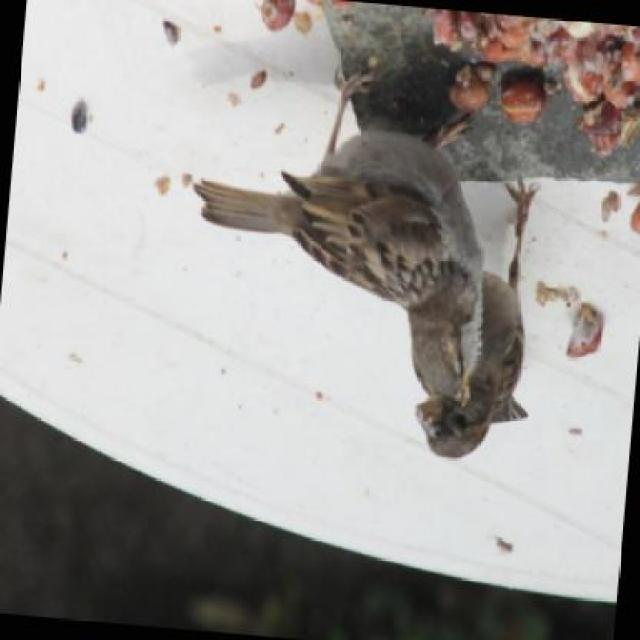Bird: (191, 65, 486, 403), (415, 192, 537, 464)
